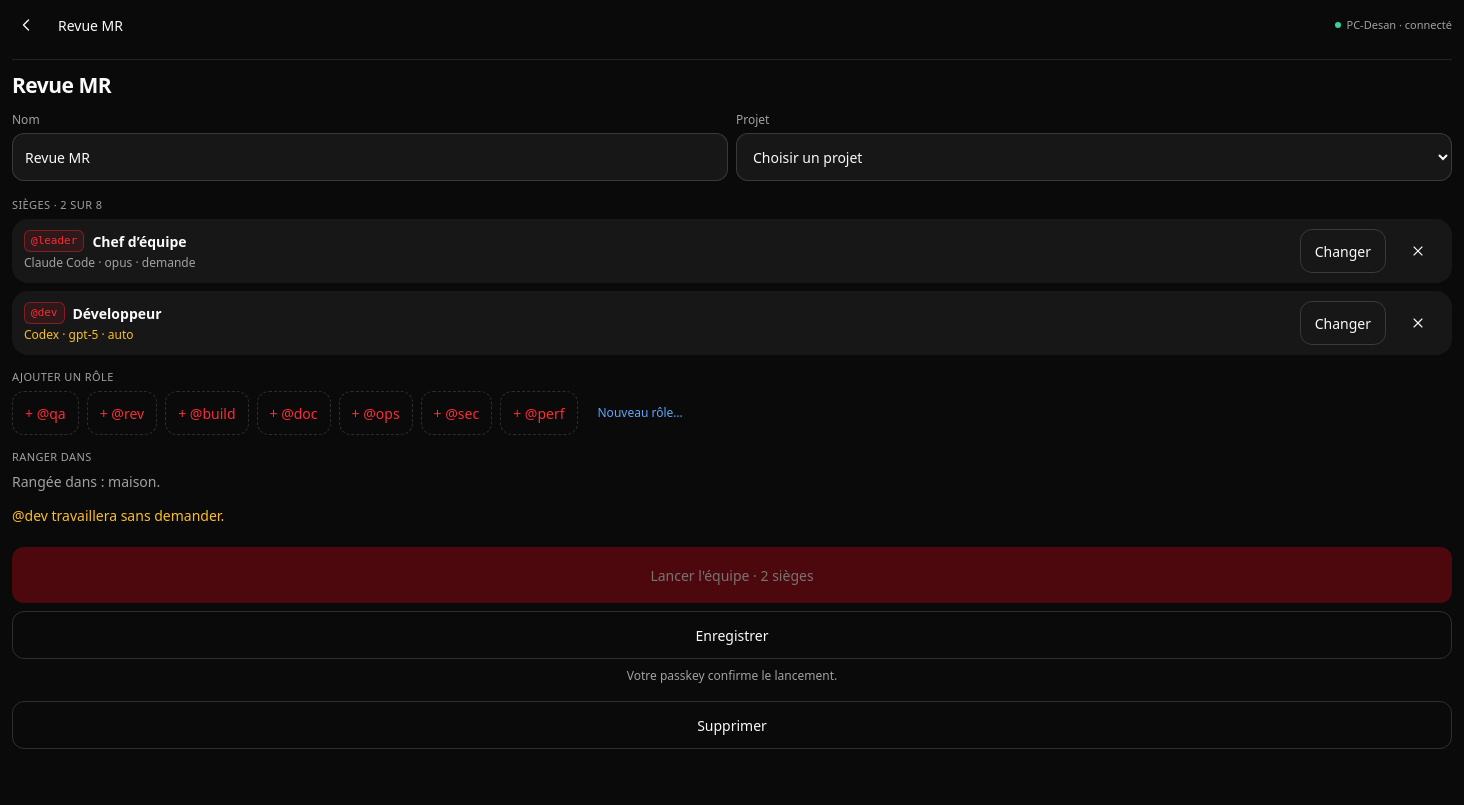
Test: the team editor, a definition › a team deleted on the PC meanwhile keeps the edits on screen but cannot be saved or deleted
Replace the text in the field labelled "Nom" with "Mon nom" at x=370, y=157, box [12,133,728,181]
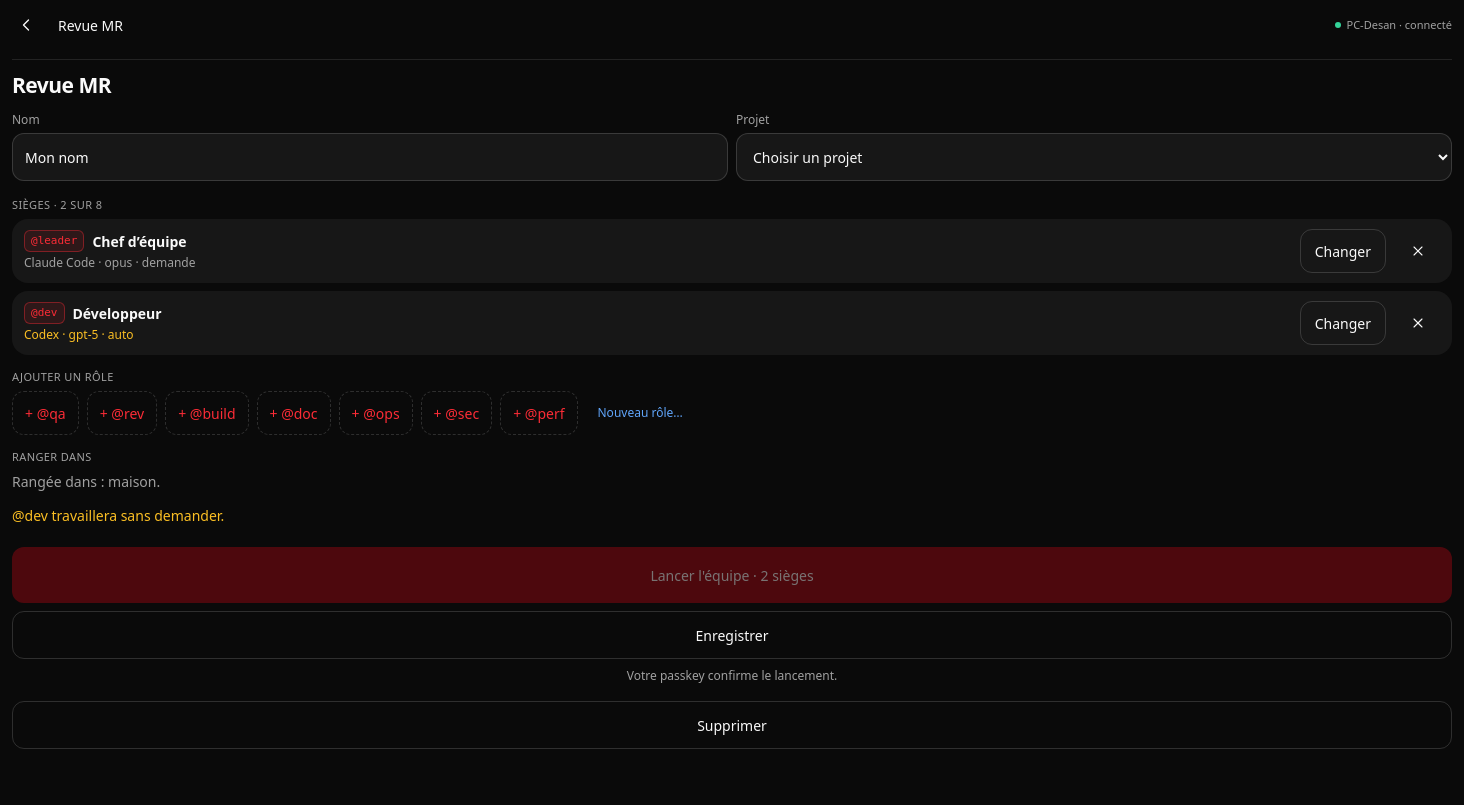
Click the button "Enregistrer" at x=732, y=635, box [12,611,1452,659]
(page scrolled)
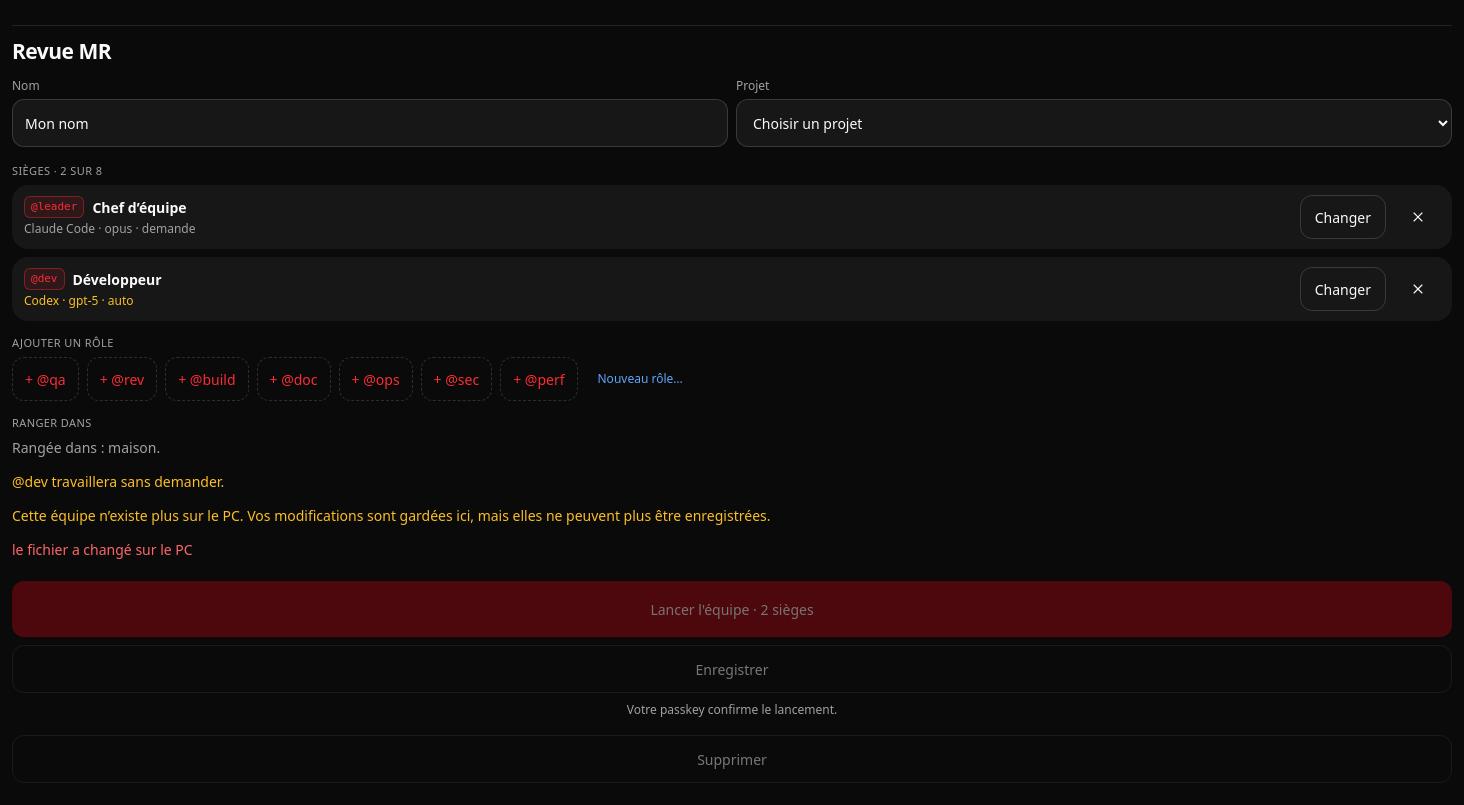
Check: the text "n’existe plus sur le PC" is shown, box [12,506,770,525]
Check: the button "Enregistrer" is disabled, box [12,645,1452,693]
Check: the button "Supprimer" is disabled, box [12,735,1452,783]
